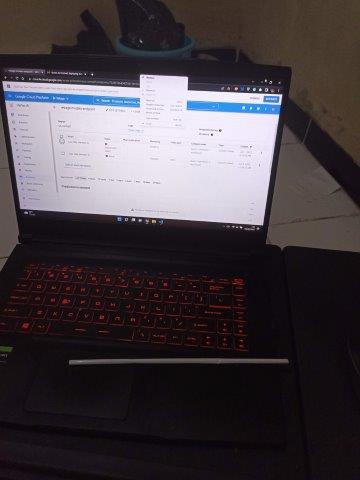sedotan: (69, 358, 289, 365)
